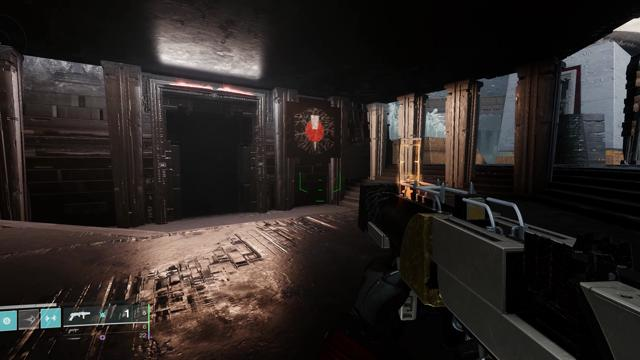kill: (294, 108, 335, 156)
